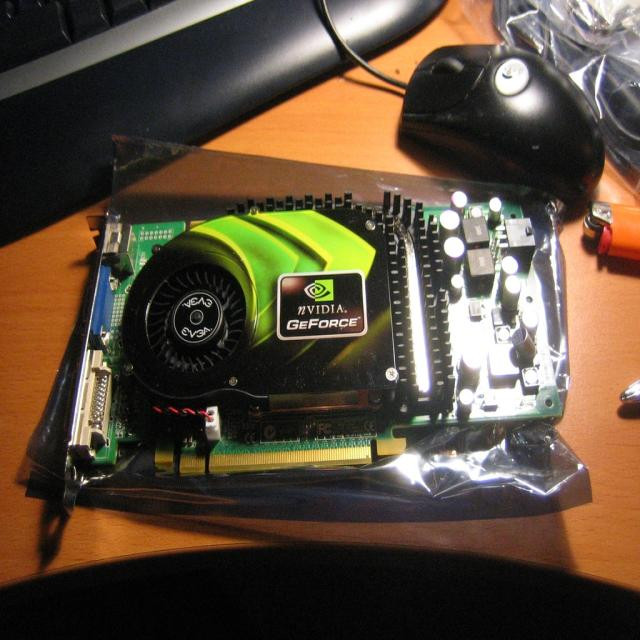nvidia: (302, 279, 335, 303)
